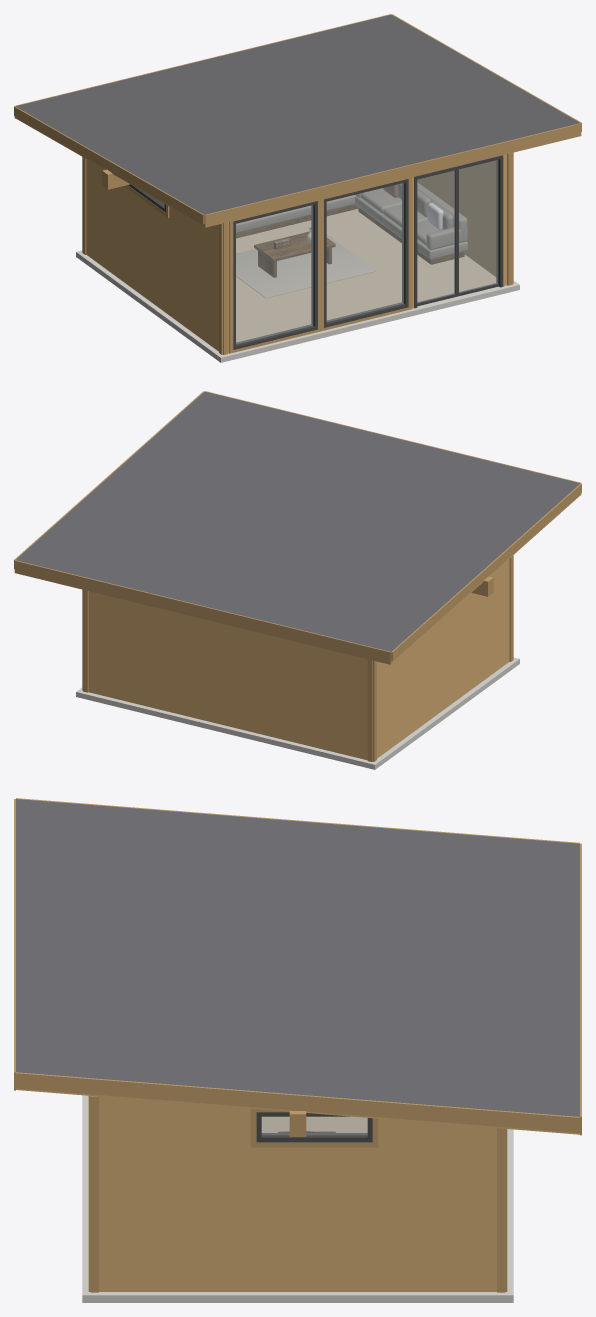
The model's file is web.glb.
3 renders of one model, top to bottom at view 1: azimuth 30°, elevation 25°; view 2: azimuth 150°, elevation 25°; view 3: azimuth 270°, elevation 25°, orthographic. The views are drawn at different scales.
Visible parts, largest first — view 1: roof_tiles, glass, wood, trim, floor, frame, slab, Cube.040, Cube.001, Cube.025, Cube.037, Cube (+4 smaller); view 2: roof_tiles, wood, trim, slab; view 3: roof_tiles, wood, trim, slab, glass, frame, floor, rafters, ceiling.
Boxes of the visible parts, x1=… form: roof_tiles: x1=15, y1=14, x2=580, y2=214; glass: x1=156, y1=160, x2=497, y2=344; wood: x1=86, y1=154, x2=507, y2=353; trim: x1=14, y1=14, x2=581, y2=354; floor: x1=236, y1=209, x2=496, y2=342; frame: x1=128, y1=155, x2=503, y2=349; slab: x1=76, y1=250, x2=519, y2=362; Cube.040: x1=236, y1=235, x2=376, y2=298; Cube.001: x1=236, y1=195, x2=355, y2=232; Cube.025: x1=355, y1=196, x2=467, y2=259; Cube.037: x1=254, y1=232, x2=335, y2=261; Cube: x1=236, y1=204, x2=358, y2=238; roof_tiles: x1=15, y1=391, x2=580, y2=651; wood: x1=88, y1=559, x2=509, y2=760; trim: x1=14, y1=391, x2=581, y2=761; slab: x1=76, y1=657, x2=519, y2=769; roof_tiles: x1=16, y1=799, x2=579, y2=1116; wood: x1=99, y1=1096, x2=496, y2=1291; trim: x1=14, y1=798, x2=581, y2=1292; slab: x1=82, y1=1095, x2=513, y2=1302; glass: x1=262, y1=1117, x2=367, y2=1134; frame: x1=256, y1=1112, x2=372, y2=1142; floor: x1=261, y1=1116, x2=367, y2=1132; rafters: x1=16, y1=1086, x2=579, y2=1133; ceiling: x1=16, y1=1088, x2=579, y2=1134.
Bounding box in the file's own units: 8 × 3.44 × 6.85.
Materials: 18 (4 with a texture image).
